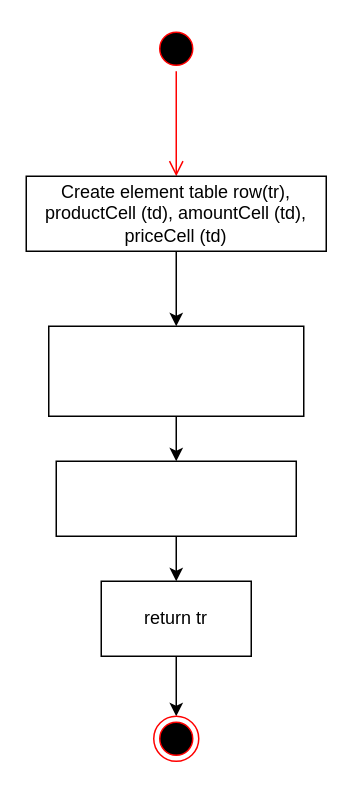
Image size: 353x788. Some labels were removed from this diagram. The box of each missing label's shape, as (x1, y1, x2, y2) in pixels:
append productCell (td), amountCell (td), priceCell (td) to tr: (55, 460, 296, 536)
Give the text content: product, amount and price: (47, 325, 304, 416)
